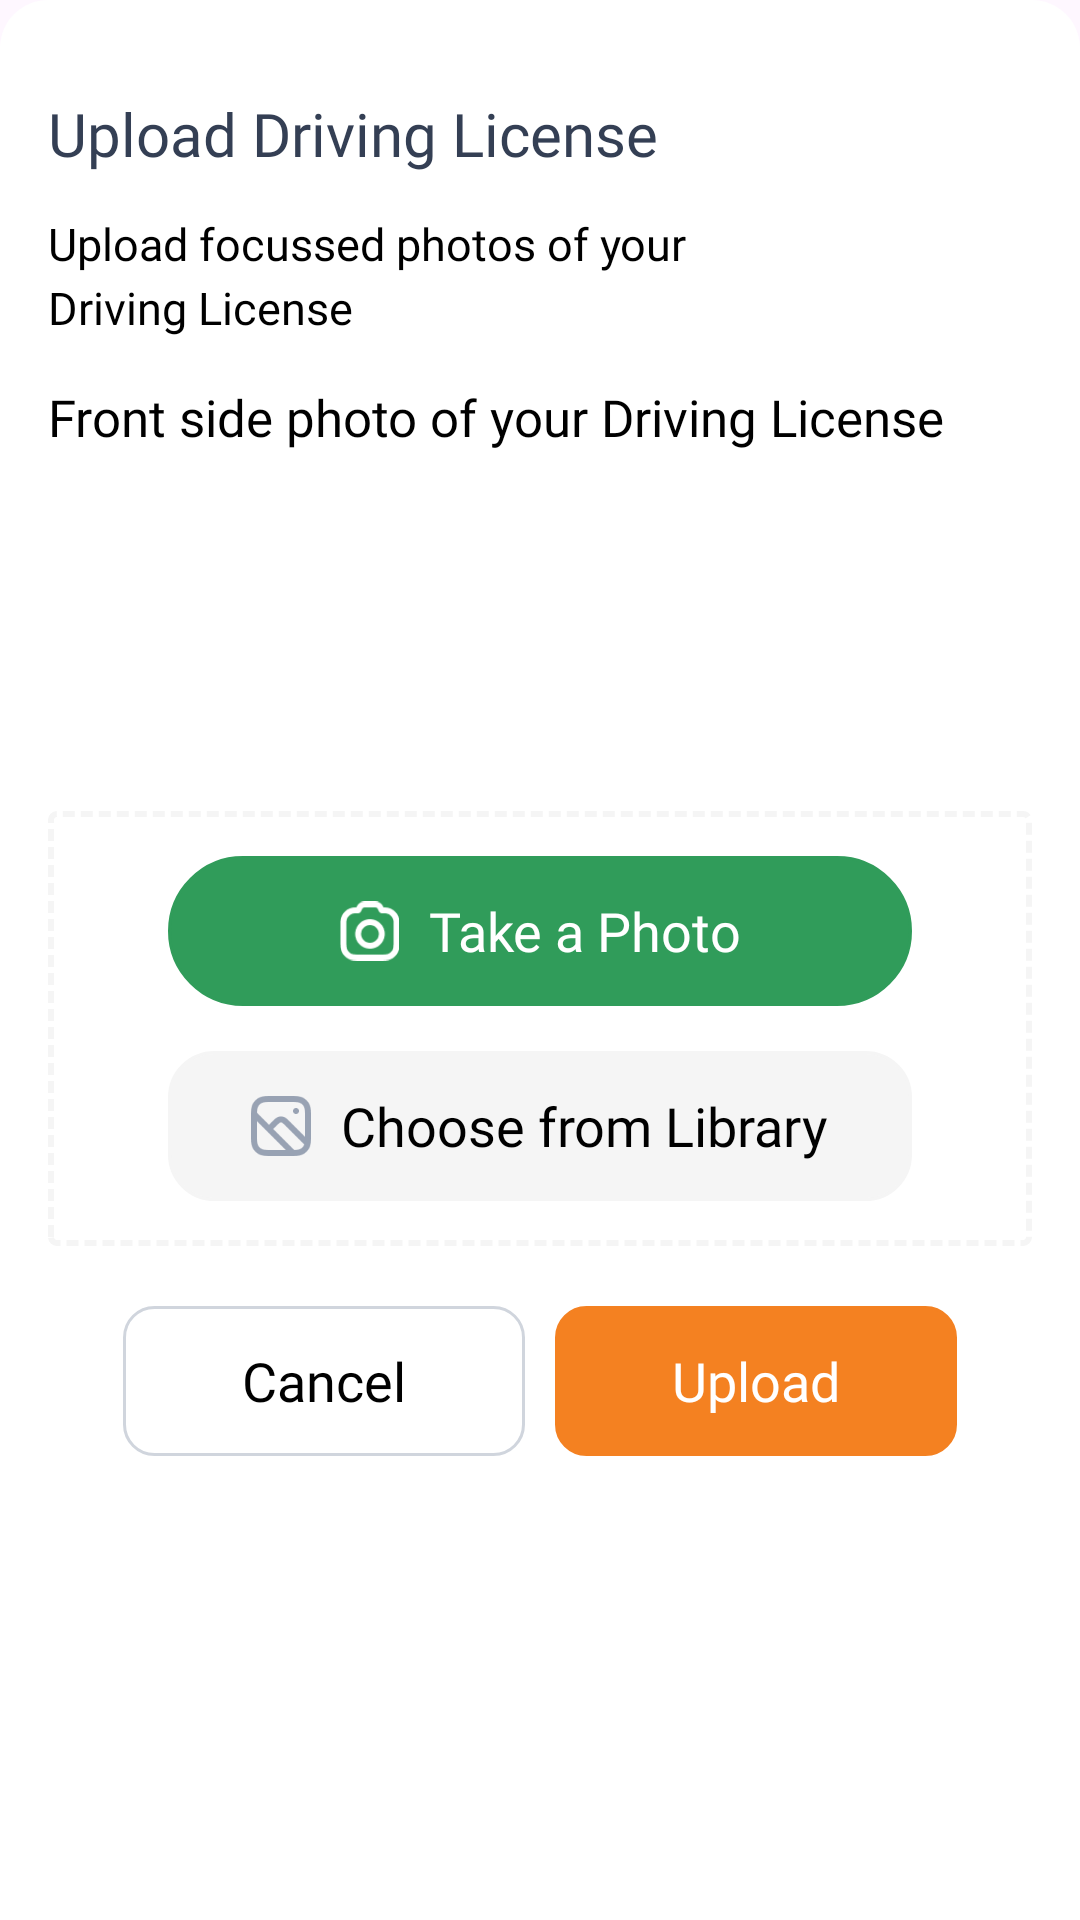

Icons on this 1080*1920 Android screen, each with the point to tap as (x,y):
camera: (369,931)
gallery: (281,1126)
